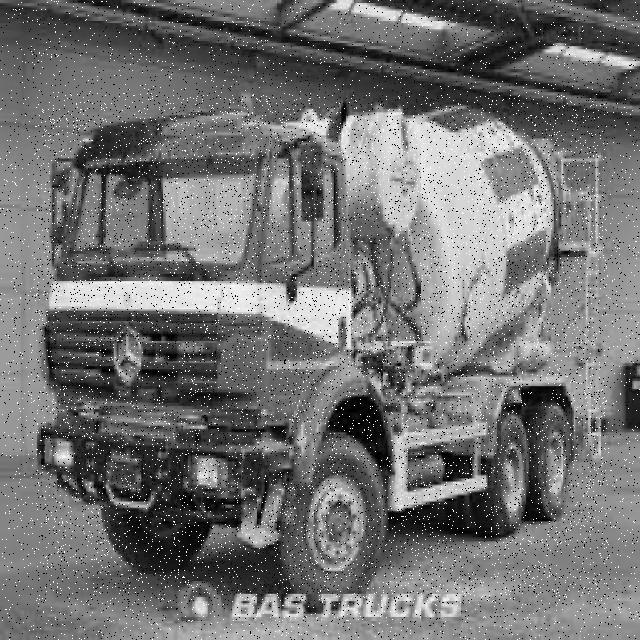Concrete Mixer: (37, 95, 607, 605)
